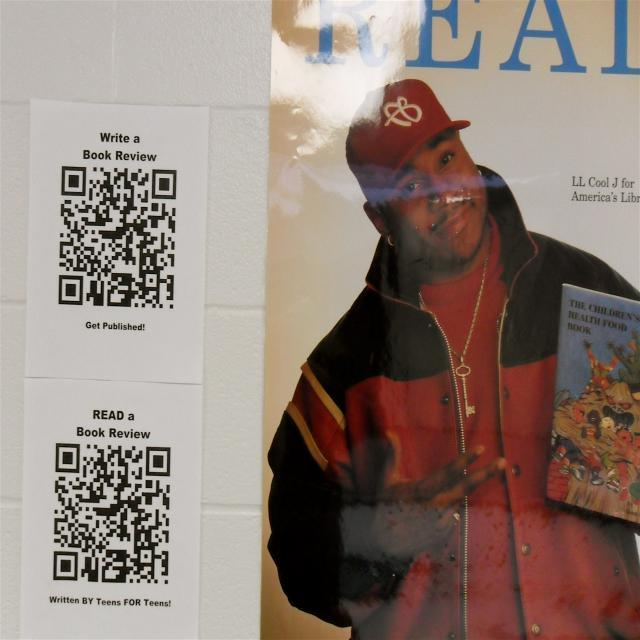qrcode: (59, 167, 178, 309), (54, 444, 171, 585)
